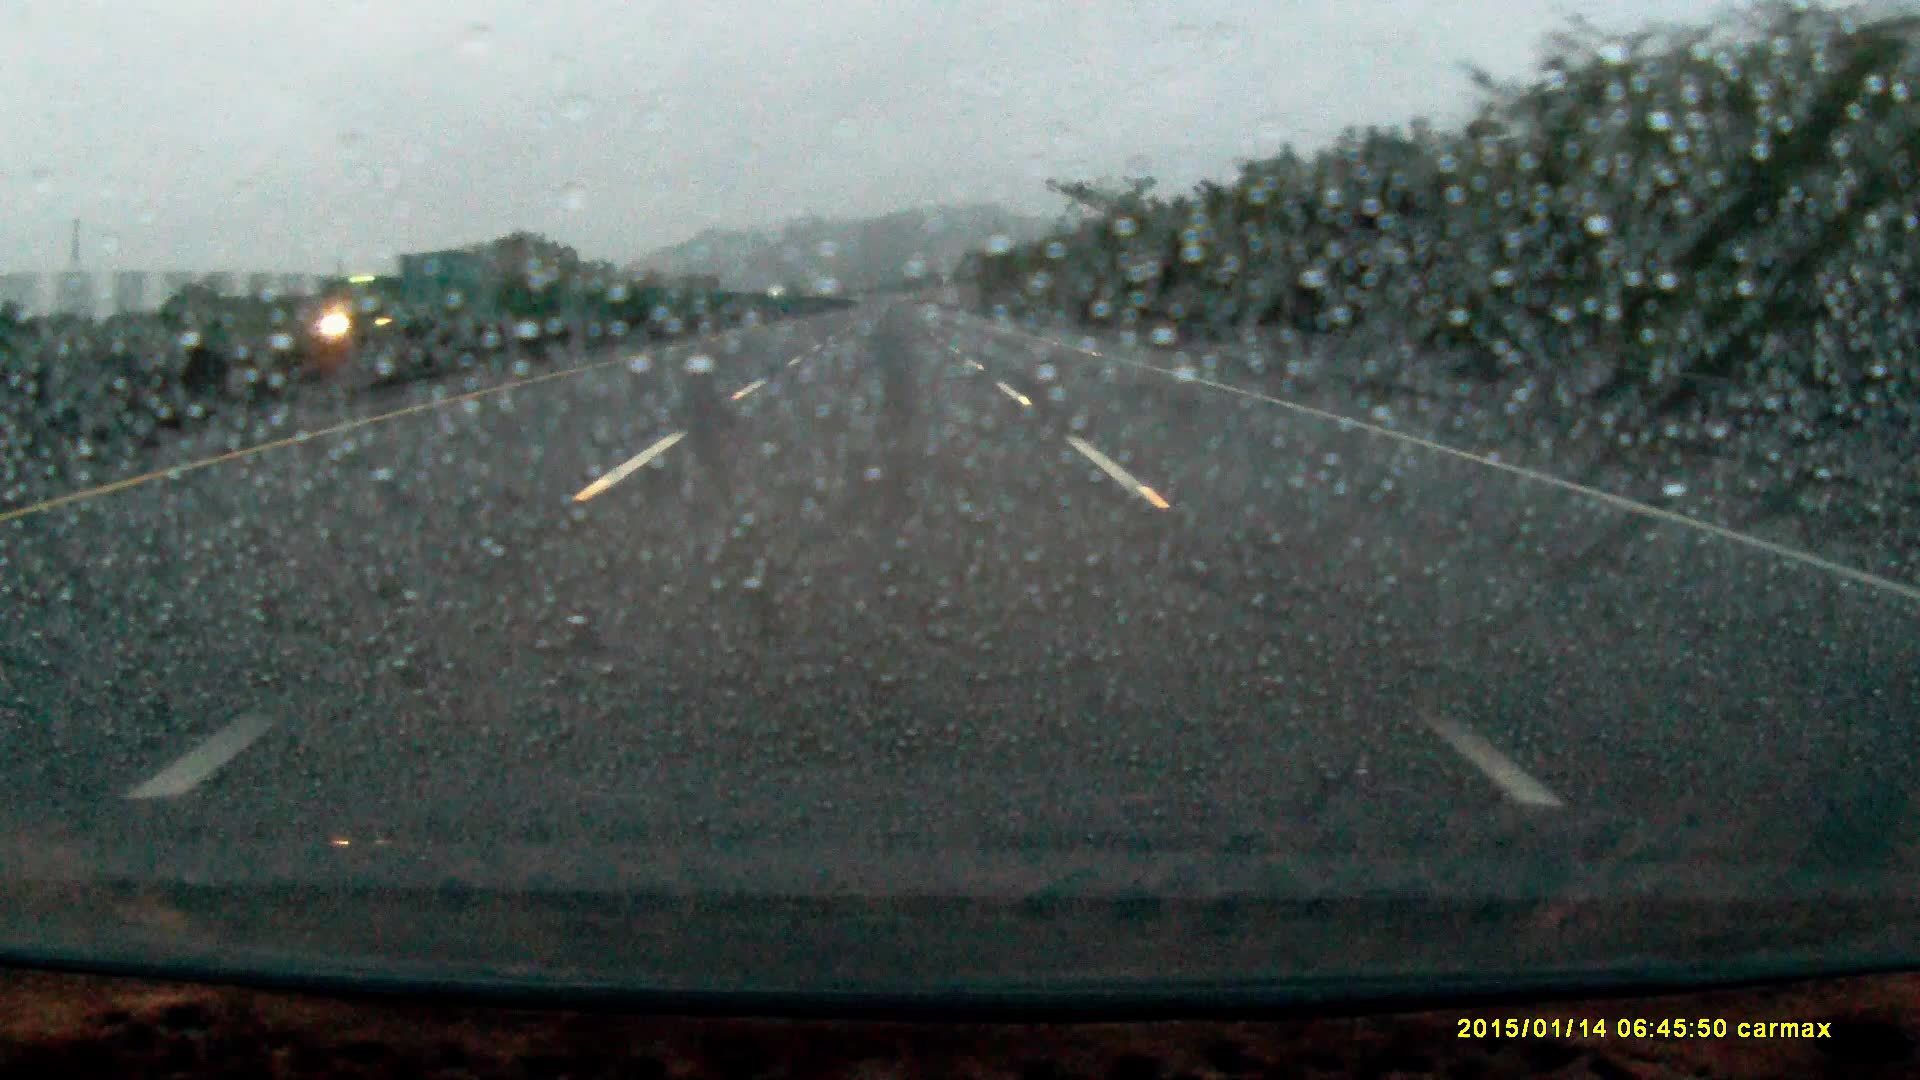vehicle: (318, 253, 493, 345)
